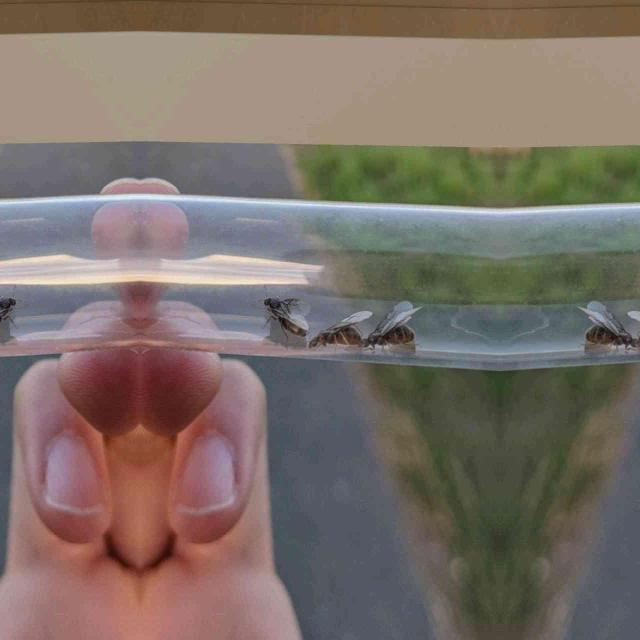Lasius: (361, 298, 423, 356), (577, 298, 639, 356), (304, 304, 370, 350), (259, 290, 307, 336), (0, 289, 20, 334)
